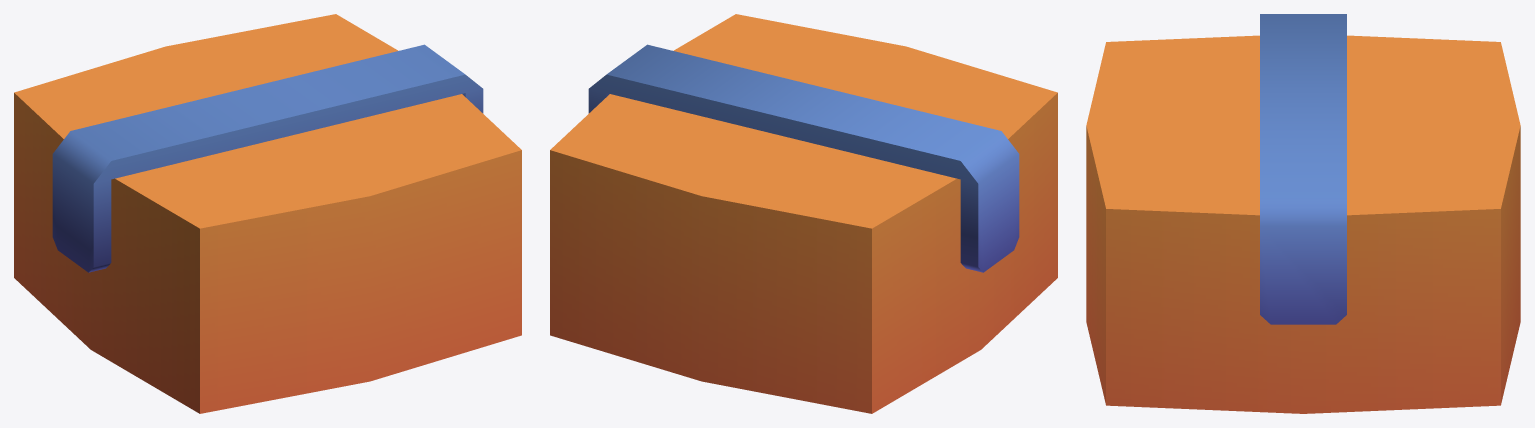
Rendered from box-large.obj.
3 renders of one model, left to right at view 1: azimuth 30°, elevation 25°; view 2: azimuth 150°, elevation 25°; view 3: azimuth 270°, elevation 25°, orthographic. The views are drawn at different scales.
Parts seen in each view (by area): view 1: box-large; view 2: box-large; view 3: box-large.
Boxes of the visible parts, bbox=[...] form: box-large: bbox=[14, 14, 521, 413]; box-large: bbox=[550, 14, 1057, 413]; box-large: bbox=[1086, 14, 1520, 413].
Size of the model in its own units: 1.1 by 0.55 by 1.
